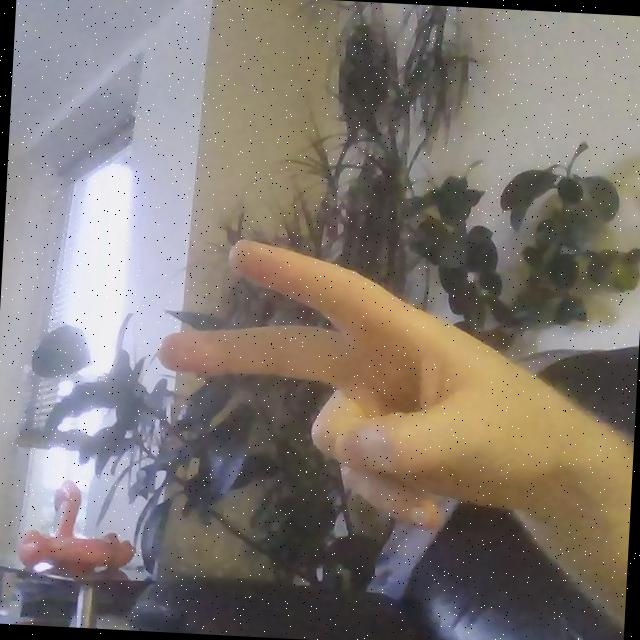scissors: (146, 230, 508, 528)
